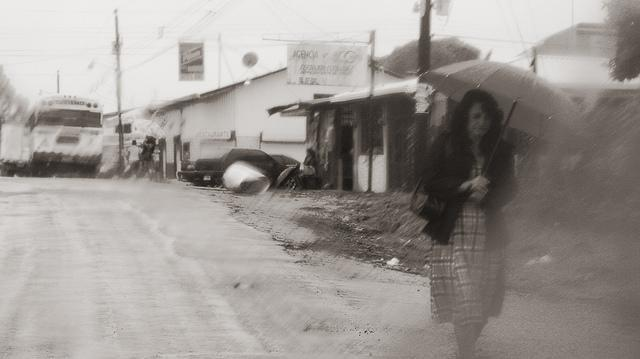bus: (19, 94, 104, 179)
car: (198, 150, 300, 186)
